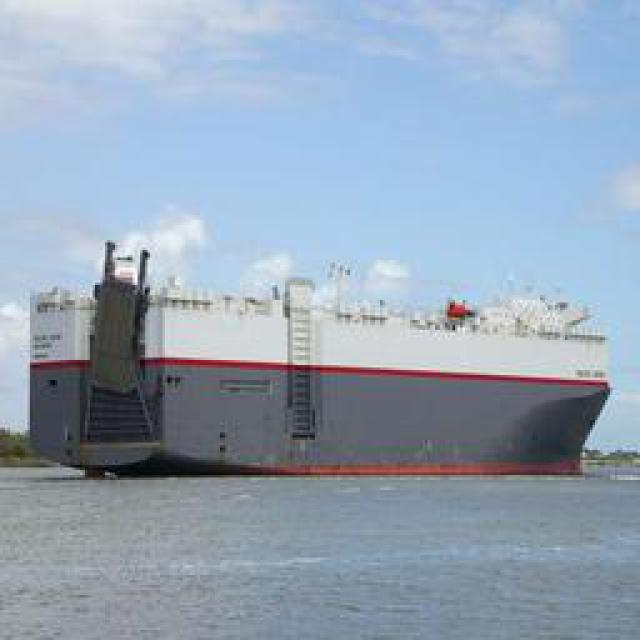Ship: (27, 235, 610, 475)
